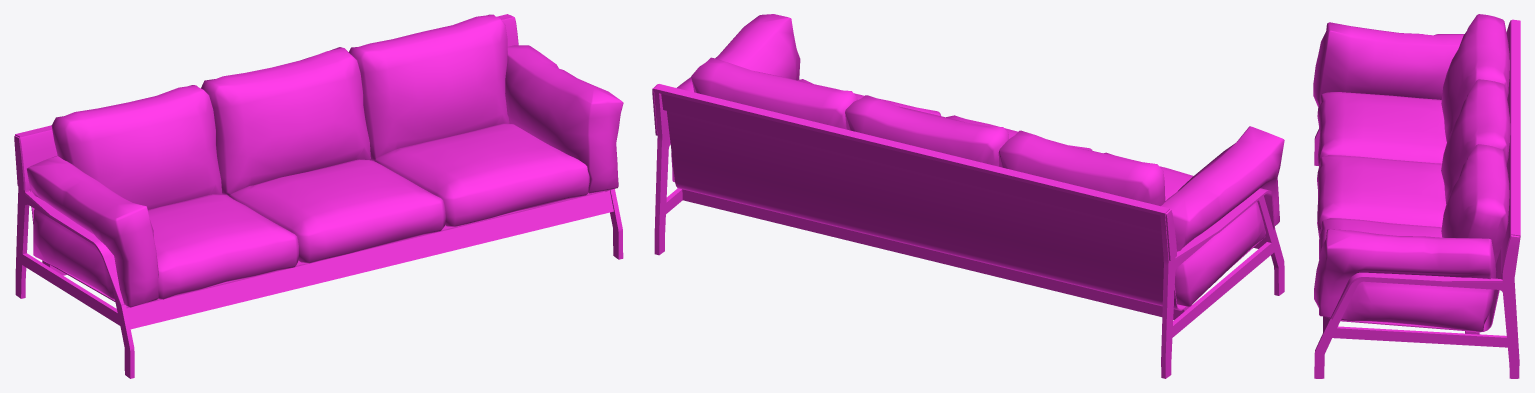
Rendered from SOFA.glb.
The picture shows the model from 3 angles, left to right: view 1: azimuth 30°, elevation 25°; view 2: azimuth 150°, elevation 25°; view 3: azimuth 270°, elevation 25°; orthographic projection. The views are drawn at different scales.
Visible parts, largest first — view 1: sofa_2; view 2: sofa_2; view 3: sofa_2.
Part boxes in pixels (<box>): sofa_2: <box>14,14,623,378</box>; sofa_2: <box>652,14,1284,378</box>; sofa_2: <box>1313,14,1520,378</box>.
Size of the model in its own units: 2.4 by 0.816 by 0.9347.
